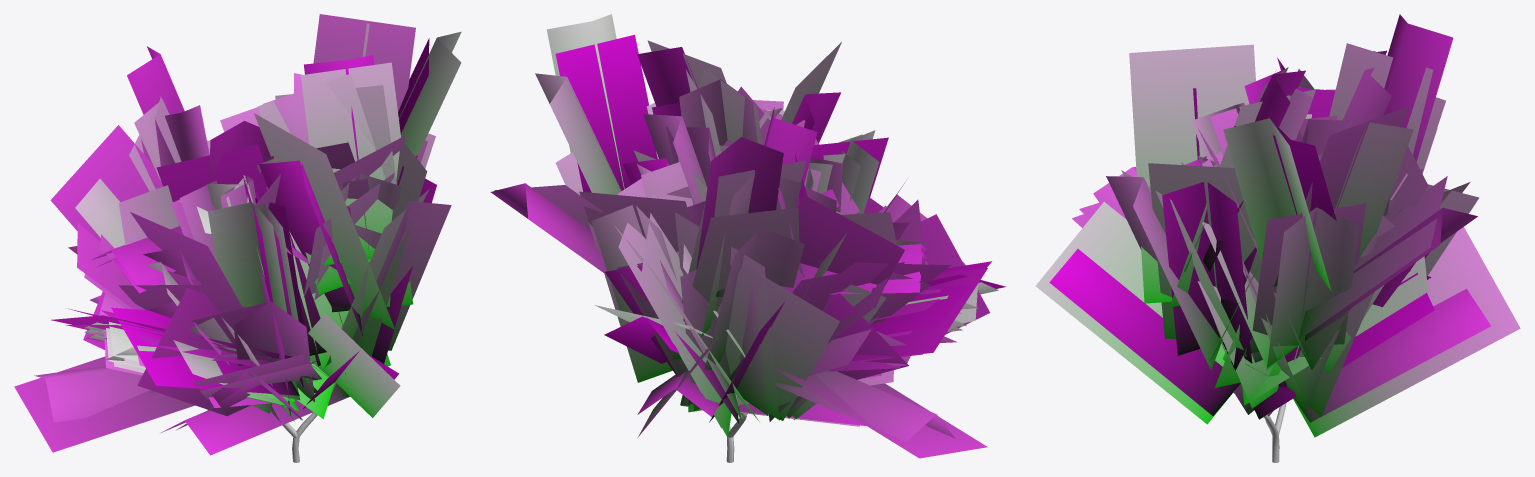
The model's file is rowan_04.fbx.
3 views of the same model, side by side, from view 1: azimuth 30°, elevation 25°; view 2: azimuth 150°, elevation 25°; view 3: azimuth 270°, elevation 25° (orthographic). The views are drawn at different scales.
Parts seen in each view (by area): view 1: rowan_leaves_04_shadow, rowan_leaves_04_lod0, rowan_tree_04_lod0; view 2: rowan_leaves_04_shadow, rowan_leaves_04_lod0; view 3: rowan_leaves_04_lod0, rowan_leaves_04_shadow, rowan_tree_04_lod0.
Boxes of the visible parts, left/top/right/bottom form: rowan_leaves_04_shadow: left=14, top=14, right=429, bottom=452; rowan_leaves_04_lod0: left=34, top=23, right=461, bottom=455; rowan_tree_04_lod0: left=282, top=259, right=370, bottom=462; rowan_leaves_04_shadow: left=494, top=34, right=1006, bottom=458; rowan_leaves_04_lod0: left=490, top=14, right=998, bottom=441; rowan_leaves_04_lod0: left=1049, top=14, right=1490, bottom=422; rowan_leaves_04_shadow: left=1035, top=43, right=1520, bottom=437; rowan_tree_04_lod0: left=1220, top=338, right=1298, bottom=462.
Size of what is drawn, in the model's own units: 3.36 by 3.01 by 3.19.
